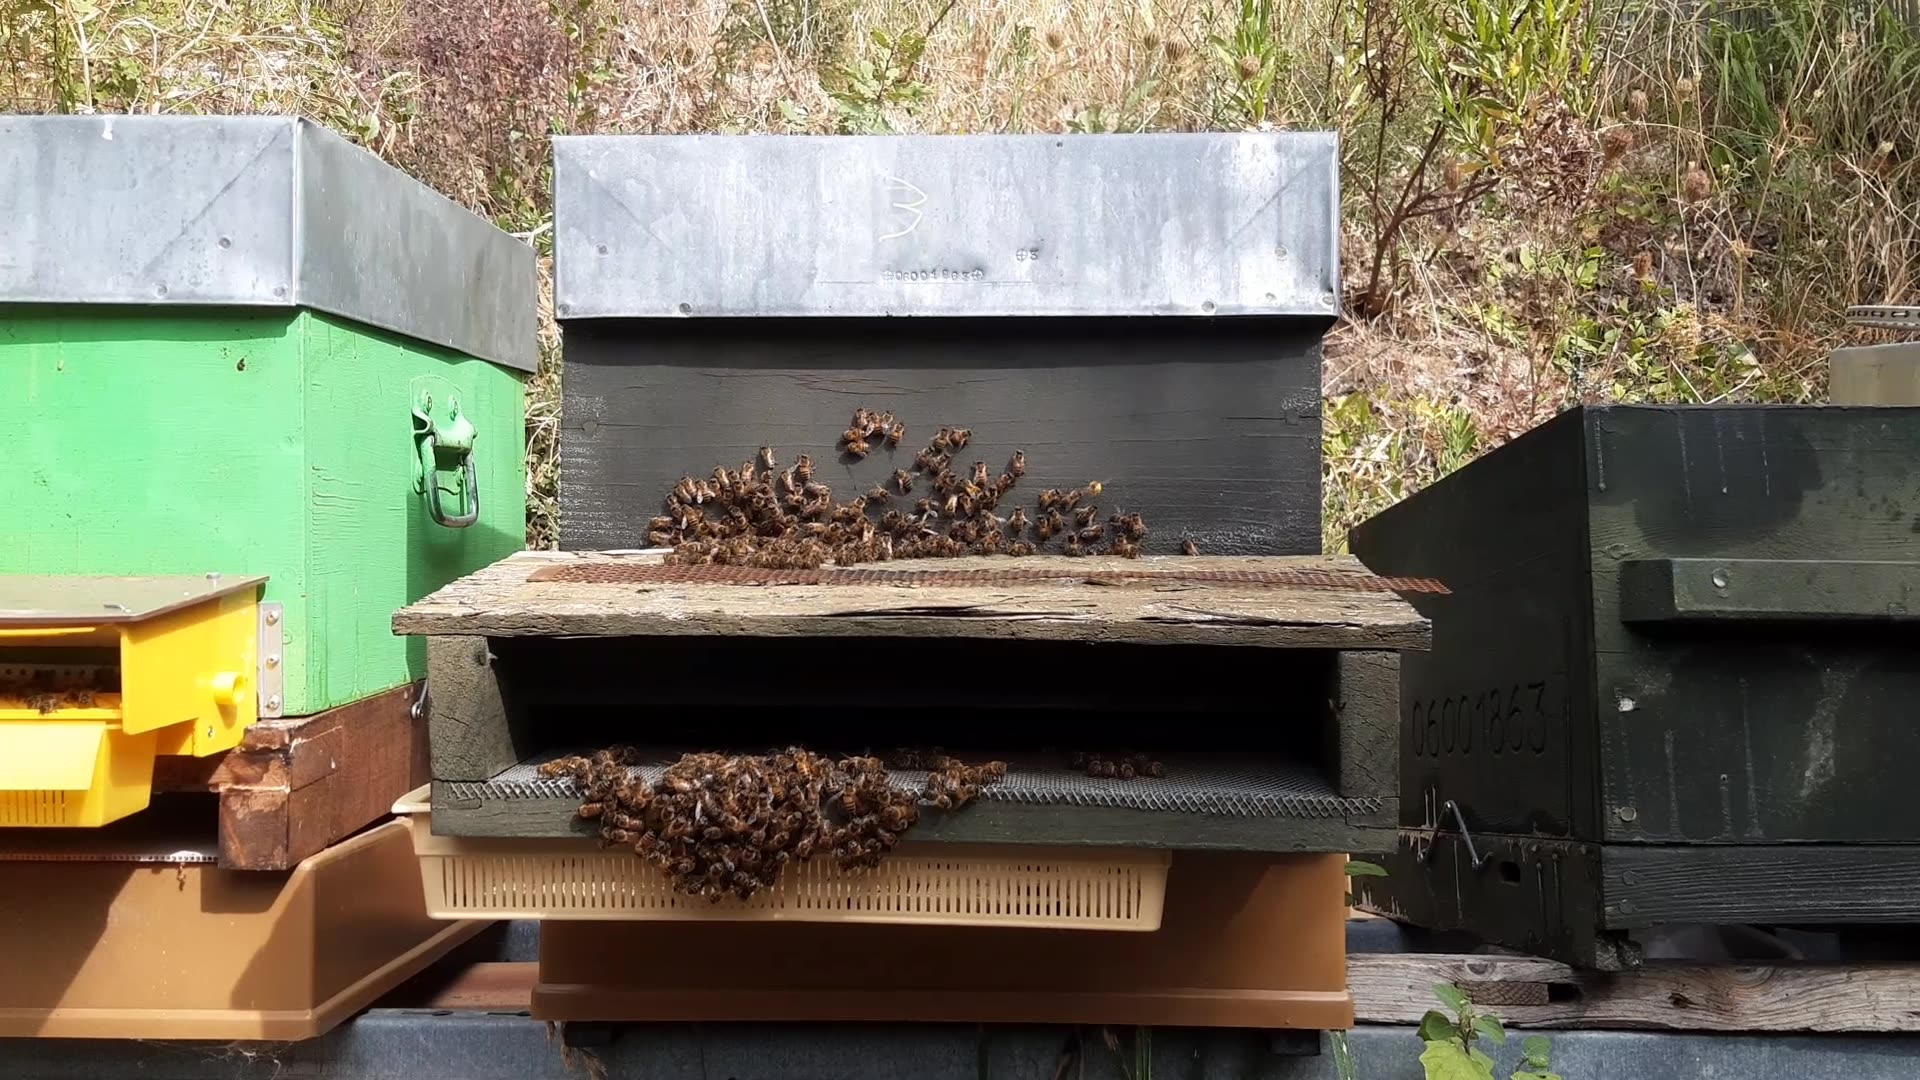bee: (663, 828, 742, 902), (916, 746, 1022, 798), (538, 750, 618, 808), (1051, 505, 1139, 556), (724, 729, 819, 774), (837, 508, 922, 556), (597, 746, 688, 789), (923, 516, 993, 564), (848, 415, 919, 458), (733, 459, 790, 512), (940, 462, 994, 514), (851, 493, 915, 534), (1035, 484, 1085, 530), (746, 518, 800, 560)
